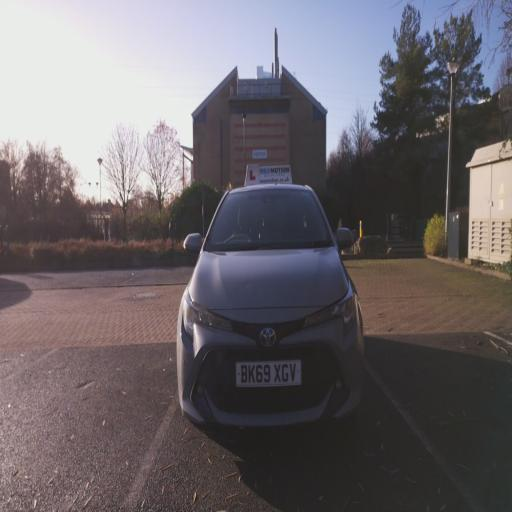numberplates: (236, 360, 301, 386)
